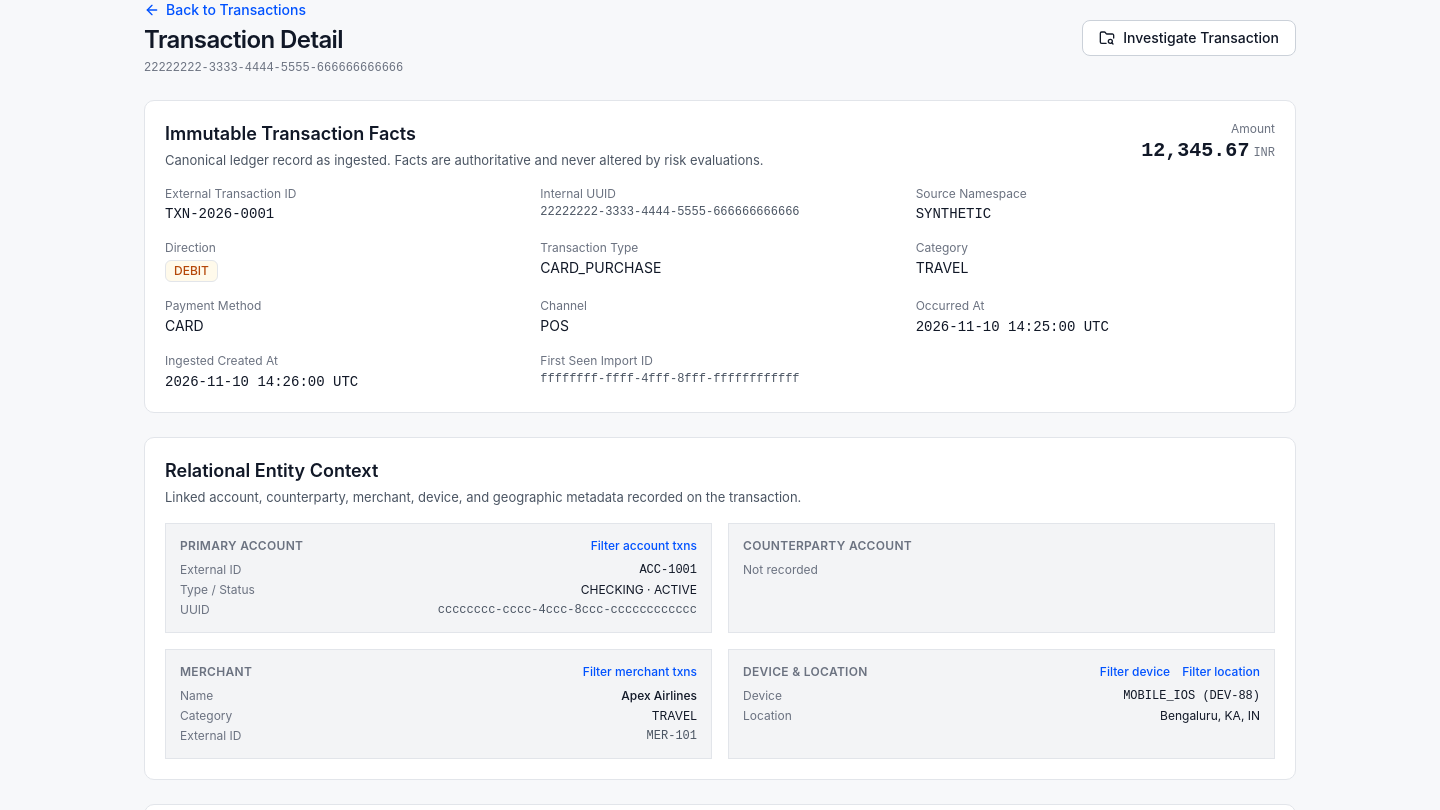
Test: Investigation creation entry points (F5.4) › renders Investigate Transaction action on TransactionDetailPage and submits with prefilled ID
Later steps or results of the test are not shown.
Click the button with test id "investigate-transaction-button". click: (1189, 38)
box: left=1082, top=20, right=1296, bottom=56
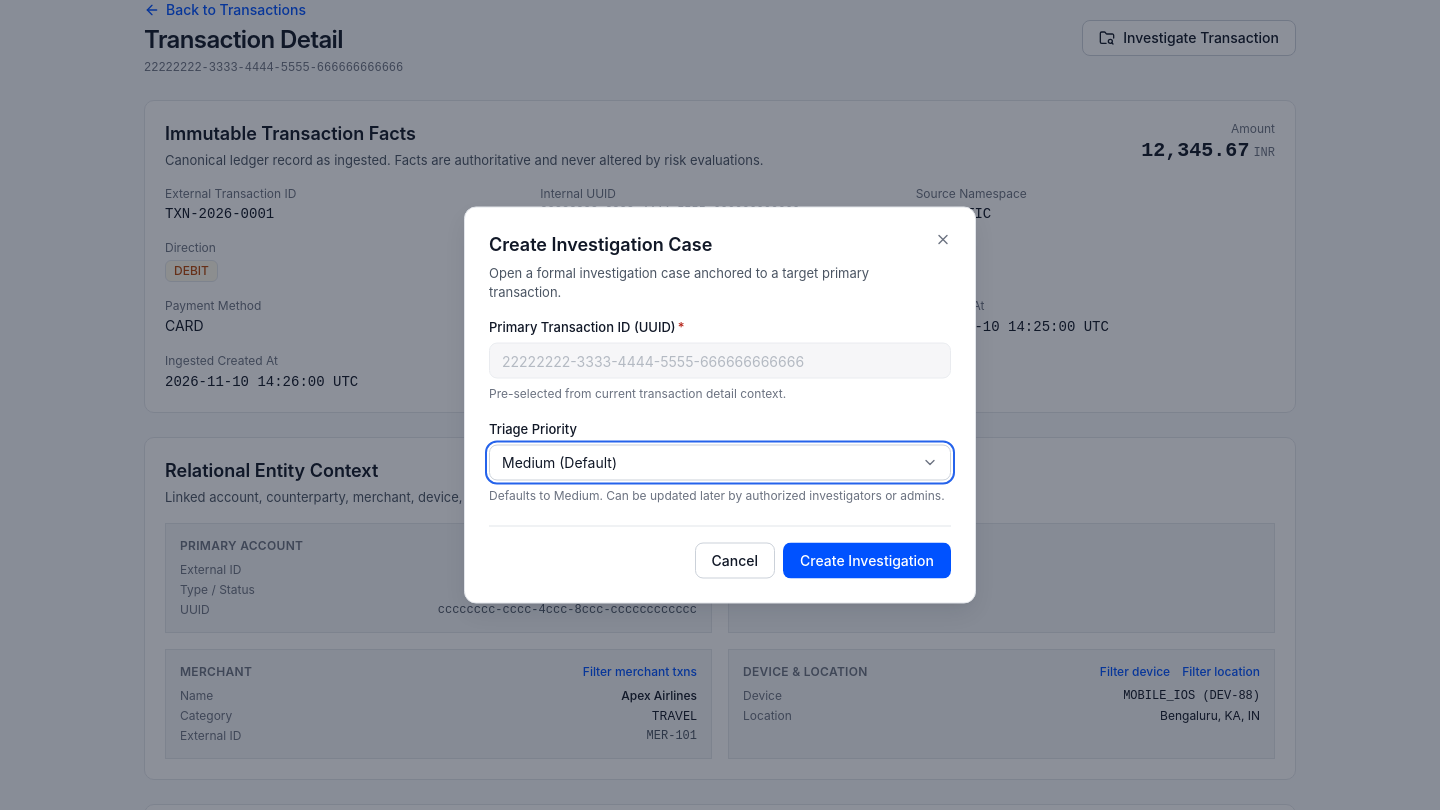
Check: the dialog is shown, box left=464, top=206, right=976, bottom=604
Check: the heading "Create Investigation Case" is shown, box left=489, top=234, right=712, bottom=254
Check: the field labelled "Primary Transaction ID (UUID)*" holds "22222222-3333-4444-5555-666666666666", box left=489, top=342, right=951, bottom=378
